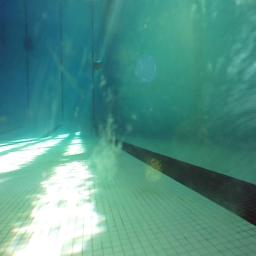Full: (92, 59, 104, 71)
